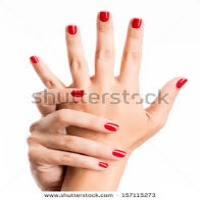ring: (46, 131, 133, 160), (59, 18, 91, 85)
